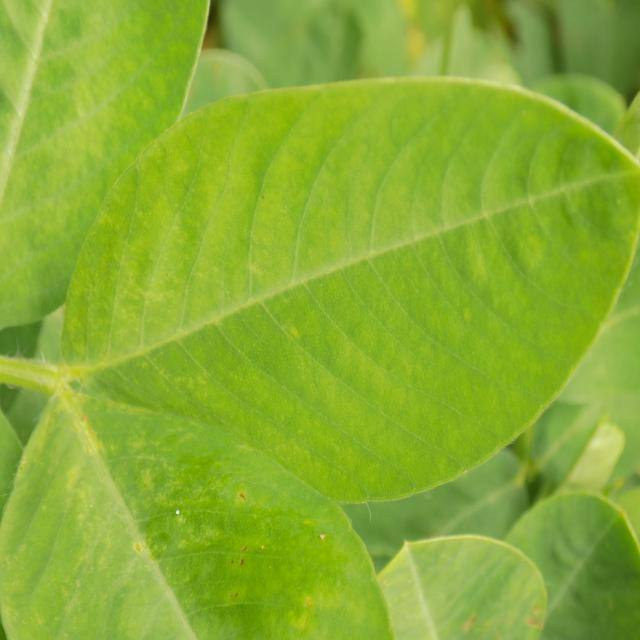Ground nut_healthy: (58, 71, 640, 505)
